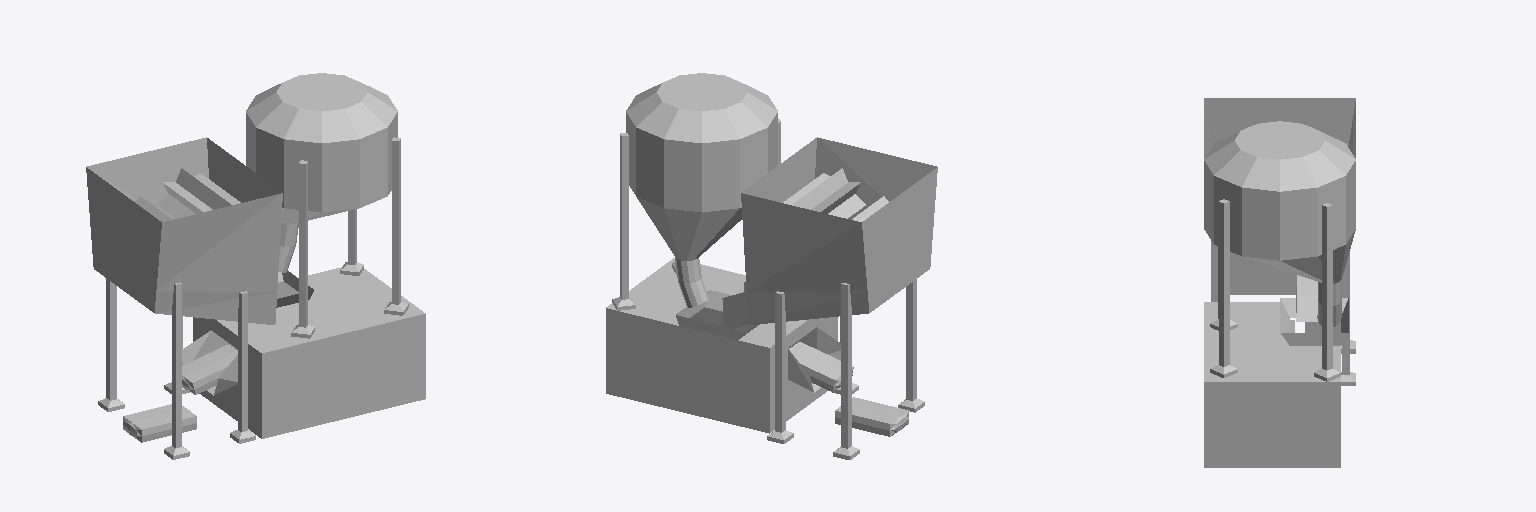
The model's file is mylandscaping_crusher.obj.
3 renders of one model, left to right at view 1: azimuth 30°, elevation 25°; view 2: azimuth 150°, elevation 25°; view 3: azimuth 270°, elevation 25°, orthographic.
Parts seen in each view (by area): view 1: Cube.006; view 2: Cube.006; view 3: Cube.006.
Part boxes in pixels (x1,y1,x2,y2): Cube.006: (86,73,425,459); Cube.006: (606,73,937,459); Cube.006: (1204,98,1355,467).
Size of the model in its own units: 2 by 2.14 by 1.